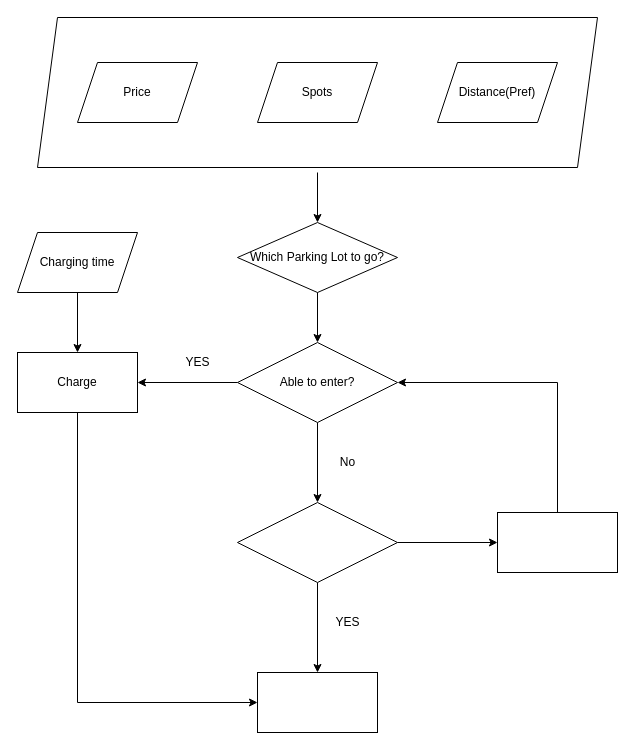
Some shapes in this 635 by 750 pixel diagram are drawn without their labels. The shapes that lost their labels are listed below. From the top down, each one's centre as x and y in pixels, then its label:
At (x=317, y=542): "Leaving Probabilty > p?".
At (x=557, y=542): "Queue".
At (x=317, y=702): "Leave".
